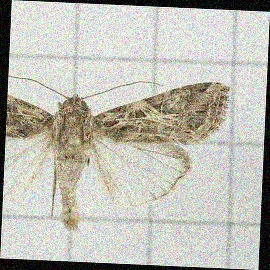Spodoptera litura: (5, 77, 228, 234)
